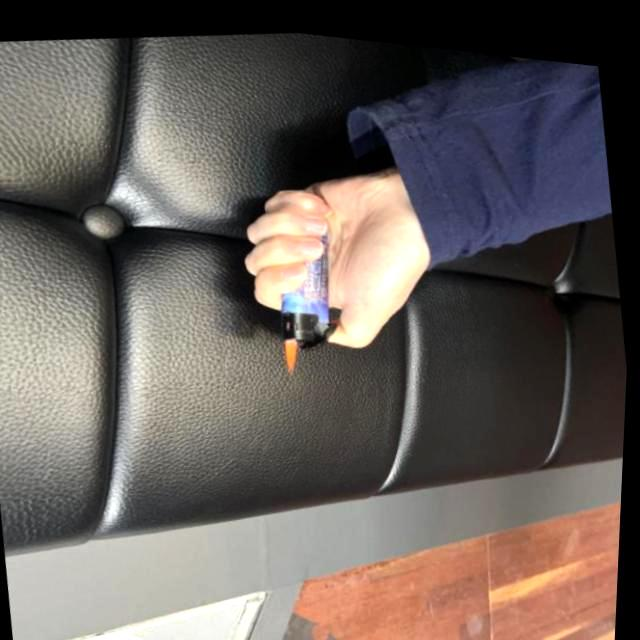fire: (287, 329, 309, 369)
